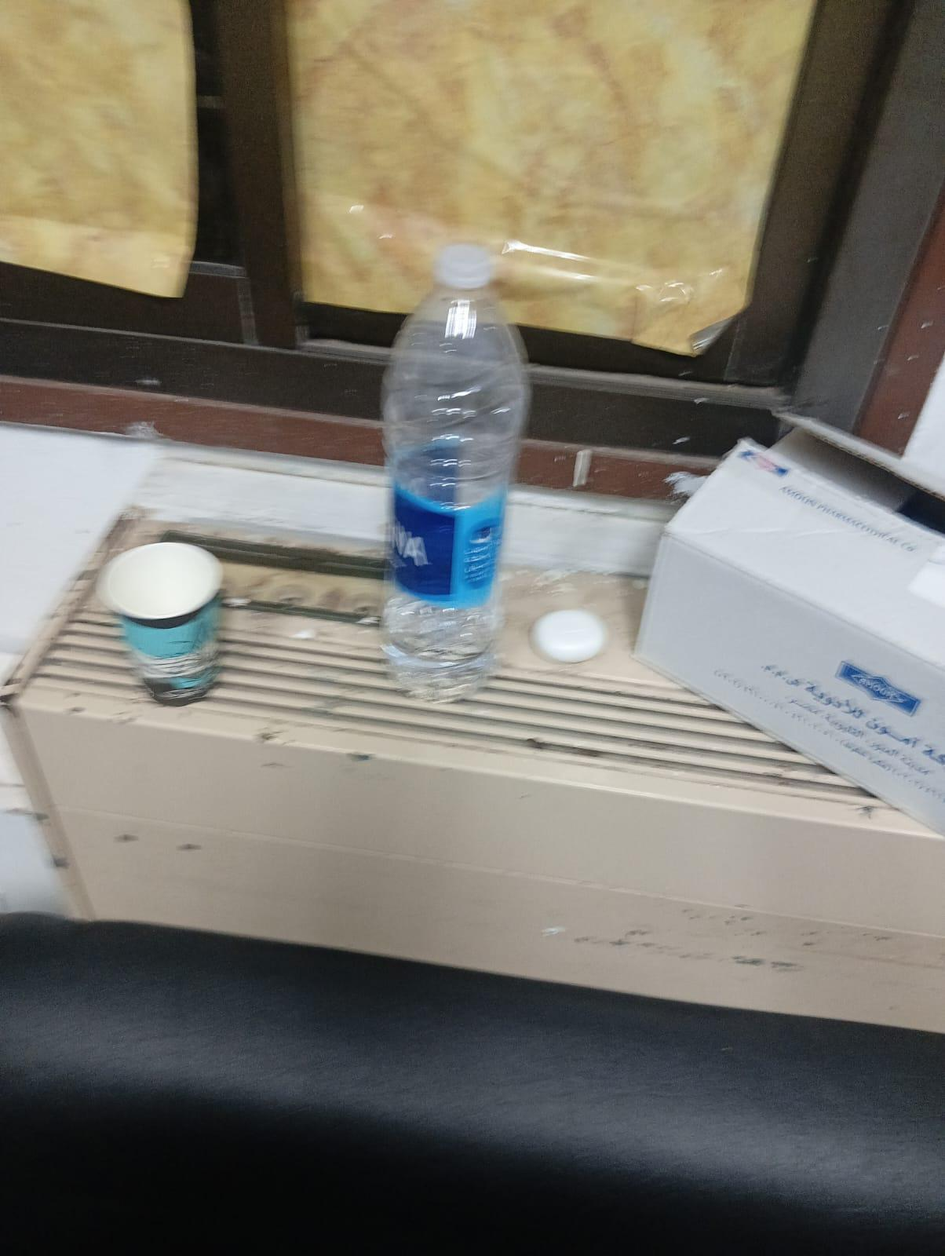cup: (98, 542, 221, 703), (106, 554, 215, 601)
